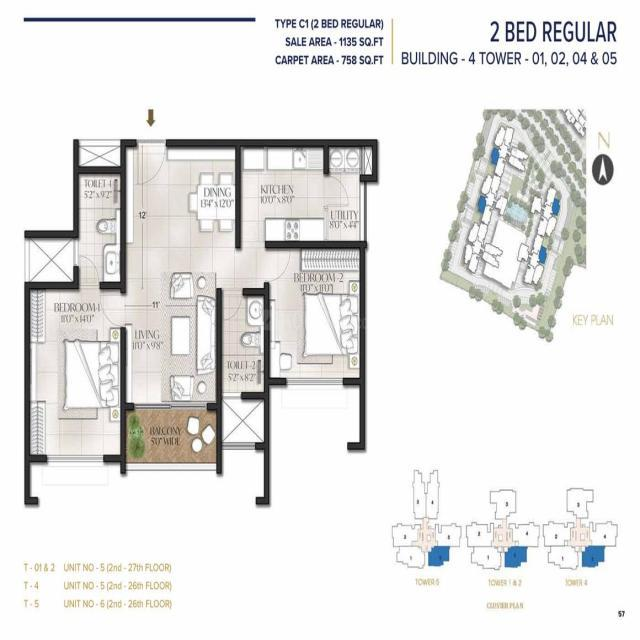Balcony-Sitout: (120, 404, 221, 469)
Bedroom: (264, 241, 366, 387)
Bedroom with Toilet: (23, 166, 127, 464)
Dining: (188, 171, 238, 234)
Enterance-Foyer: (130, 106, 178, 206)
Kitchen: (236, 138, 329, 250)
Living: (121, 288, 221, 410)
Toilet: (74, 168, 125, 292), (216, 289, 271, 399)
Utility: (324, 139, 367, 250)
